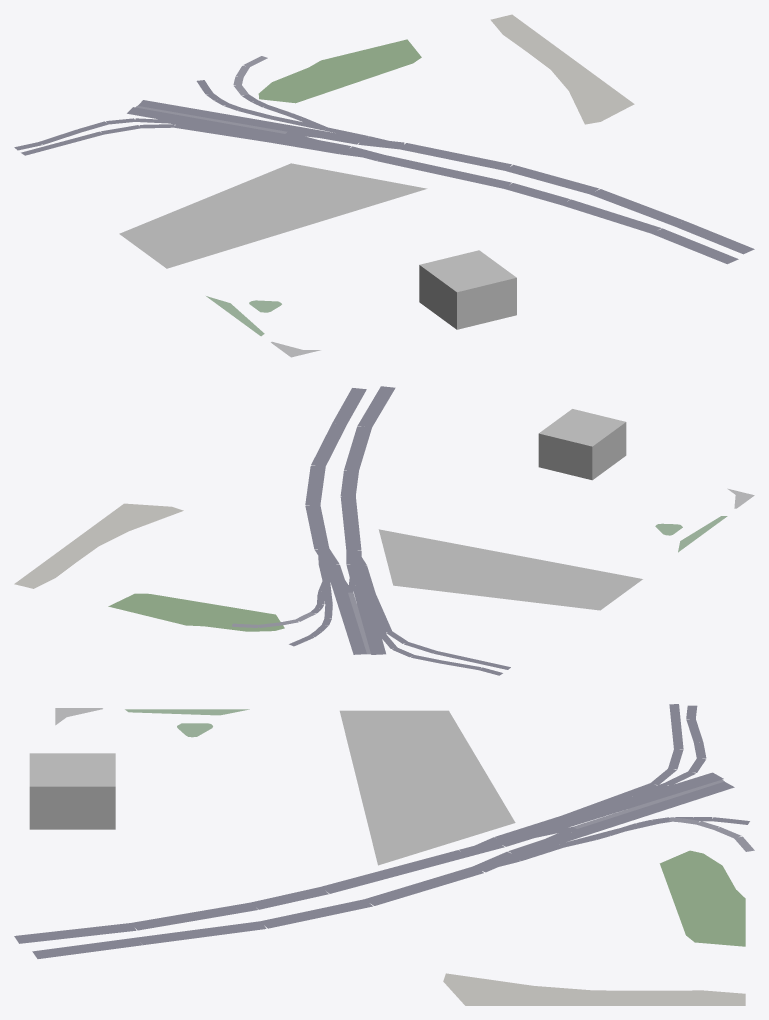
The model's file is 123_115_mid.glb.
3 renders of one model, top to bottom at view 1: azimuth 30°, elevation 25°; view 2: azimuth 150°, elevation 25°; view 3: azimuth 270°, elevation 25°, orthographic. The views are drawn at different scales.
Bounding box in the file's own units: 500 × 37.67 × 537.
